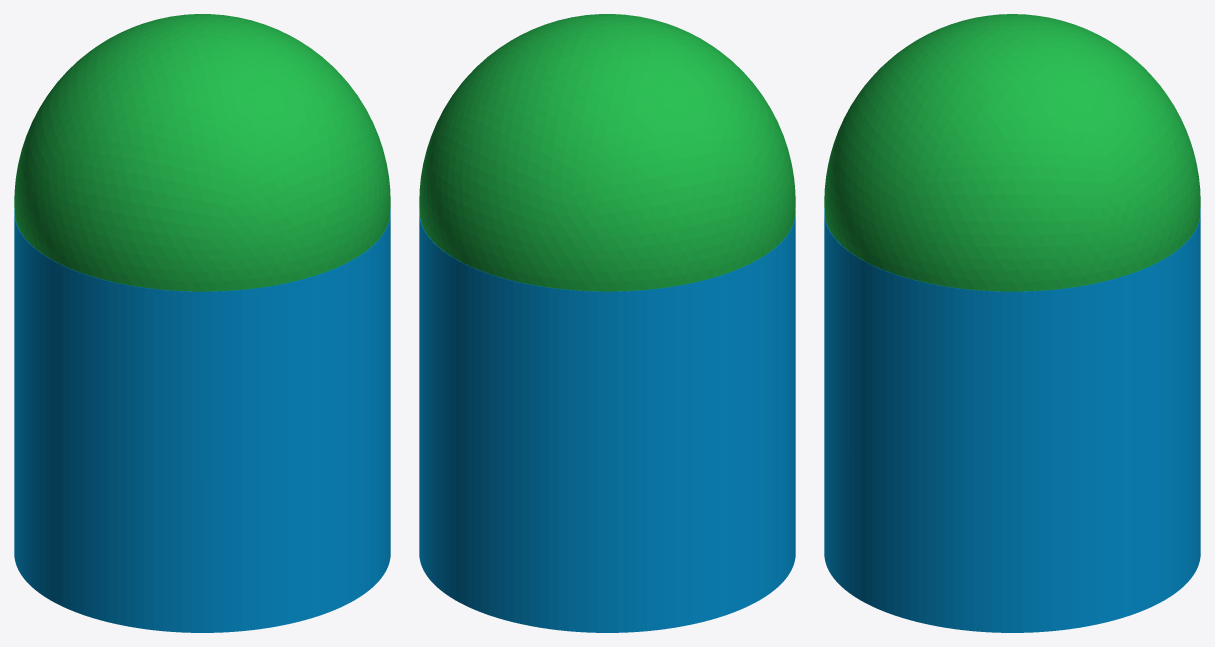
Rendered from Neu.glb.
The picture shows the model from 3 angles, left to right: view 1: azimuth 30°, elevation 25°; view 2: azimuth 150°, elevation 25°; view 3: azimuth 270°, elevation 25°; orthographic projection.
Bounding box in the file's own units: 0.04 × 0.0612 × 0.04.
